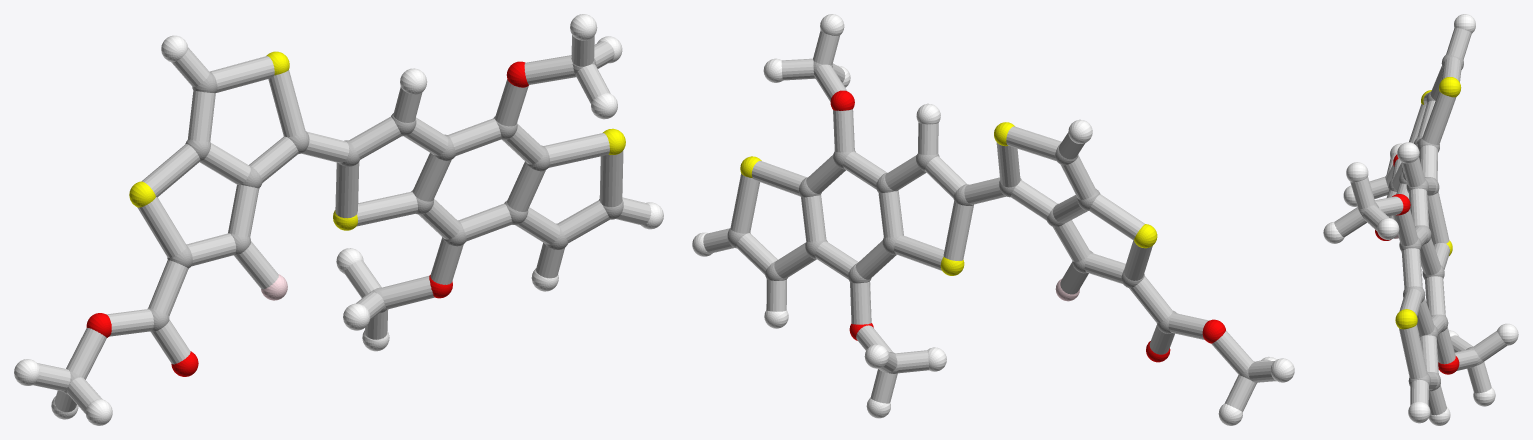
Rendered from color.glb.
3 renders of one model, left to right at view 1: azimuth 30°, elevation 25°; view 2: azimuth 150°, elevation 25°; view 3: azimuth 270°, elevation 25°, orthographic. The views are drawn at different scales.
Visible parts, largest first — view 1: grp15205, grp8689, grp1, grp13395, grp7241; view 2: grp15205, grp8689, grp1, grp7241, grp13395; view 3: grp15205, grp8689, grp1, grp7241, grp13395.
Boxes of the visible parts, bbox=[...] form: grp15205: bbox=[33, 35, 651, 413]; grp8689: bbox=[14, 14, 663, 425]; grp1: bbox=[63, 58, 623, 394]; grp13395: bbox=[86, 61, 528, 376]; grp7241: bbox=[129, 51, 625, 230]; grp15205: bbox=[703, 30, 1276, 411]; grp8689: bbox=[692, 14, 1294, 425]; grp1: bbox=[727, 61, 1257, 383]; grp7241: bbox=[740, 122, 1157, 275]; grp13395: bbox=[830, 90, 1225, 362]; grp15205: bbox=[1334, 27, 1507, 415]; grp8689: bbox=[1323, 14, 1518, 425]; grp1: bbox=[1358, 54, 1483, 391]; grp7241: bbox=[1395, 77, 1461, 329]; grp13395: bbox=[1375, 154, 1459, 374].
Size of the model in its own units: 16.71 by 9.09 by 5.26.
